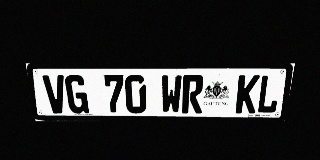0: (124, 75, 146, 113)
7: (102, 75, 125, 113)
G: (64, 75, 89, 113)
K: (235, 75, 260, 113)
L: (256, 75, 282, 113)
R: (182, 75, 204, 113)
V: (42, 75, 68, 113)
W: (161, 75, 182, 113)
